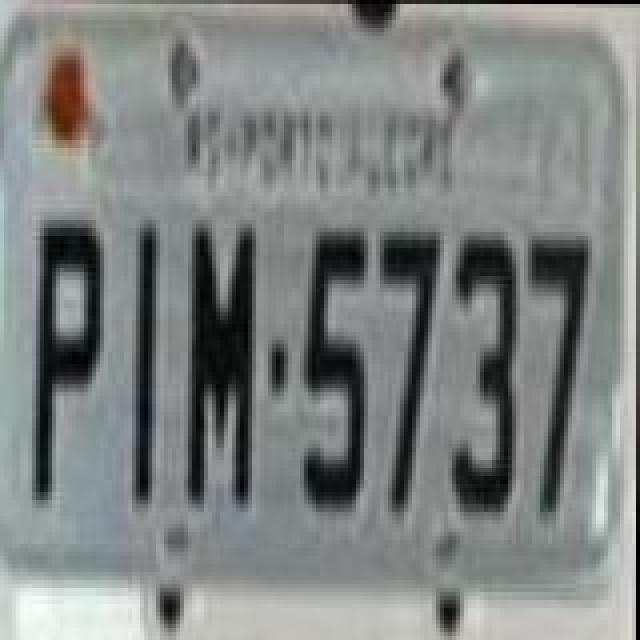1: (134, 212, 166, 516)
3: (450, 234, 522, 522)
5: (296, 230, 372, 518)
7: (382, 230, 446, 518), (526, 232, 590, 520)
M: (186, 220, 258, 512)
P: (34, 216, 106, 504)
